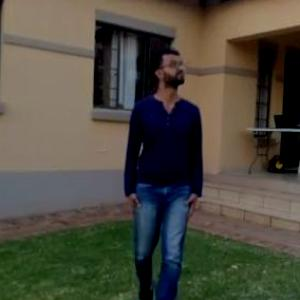follow: (125, 39, 204, 266)
